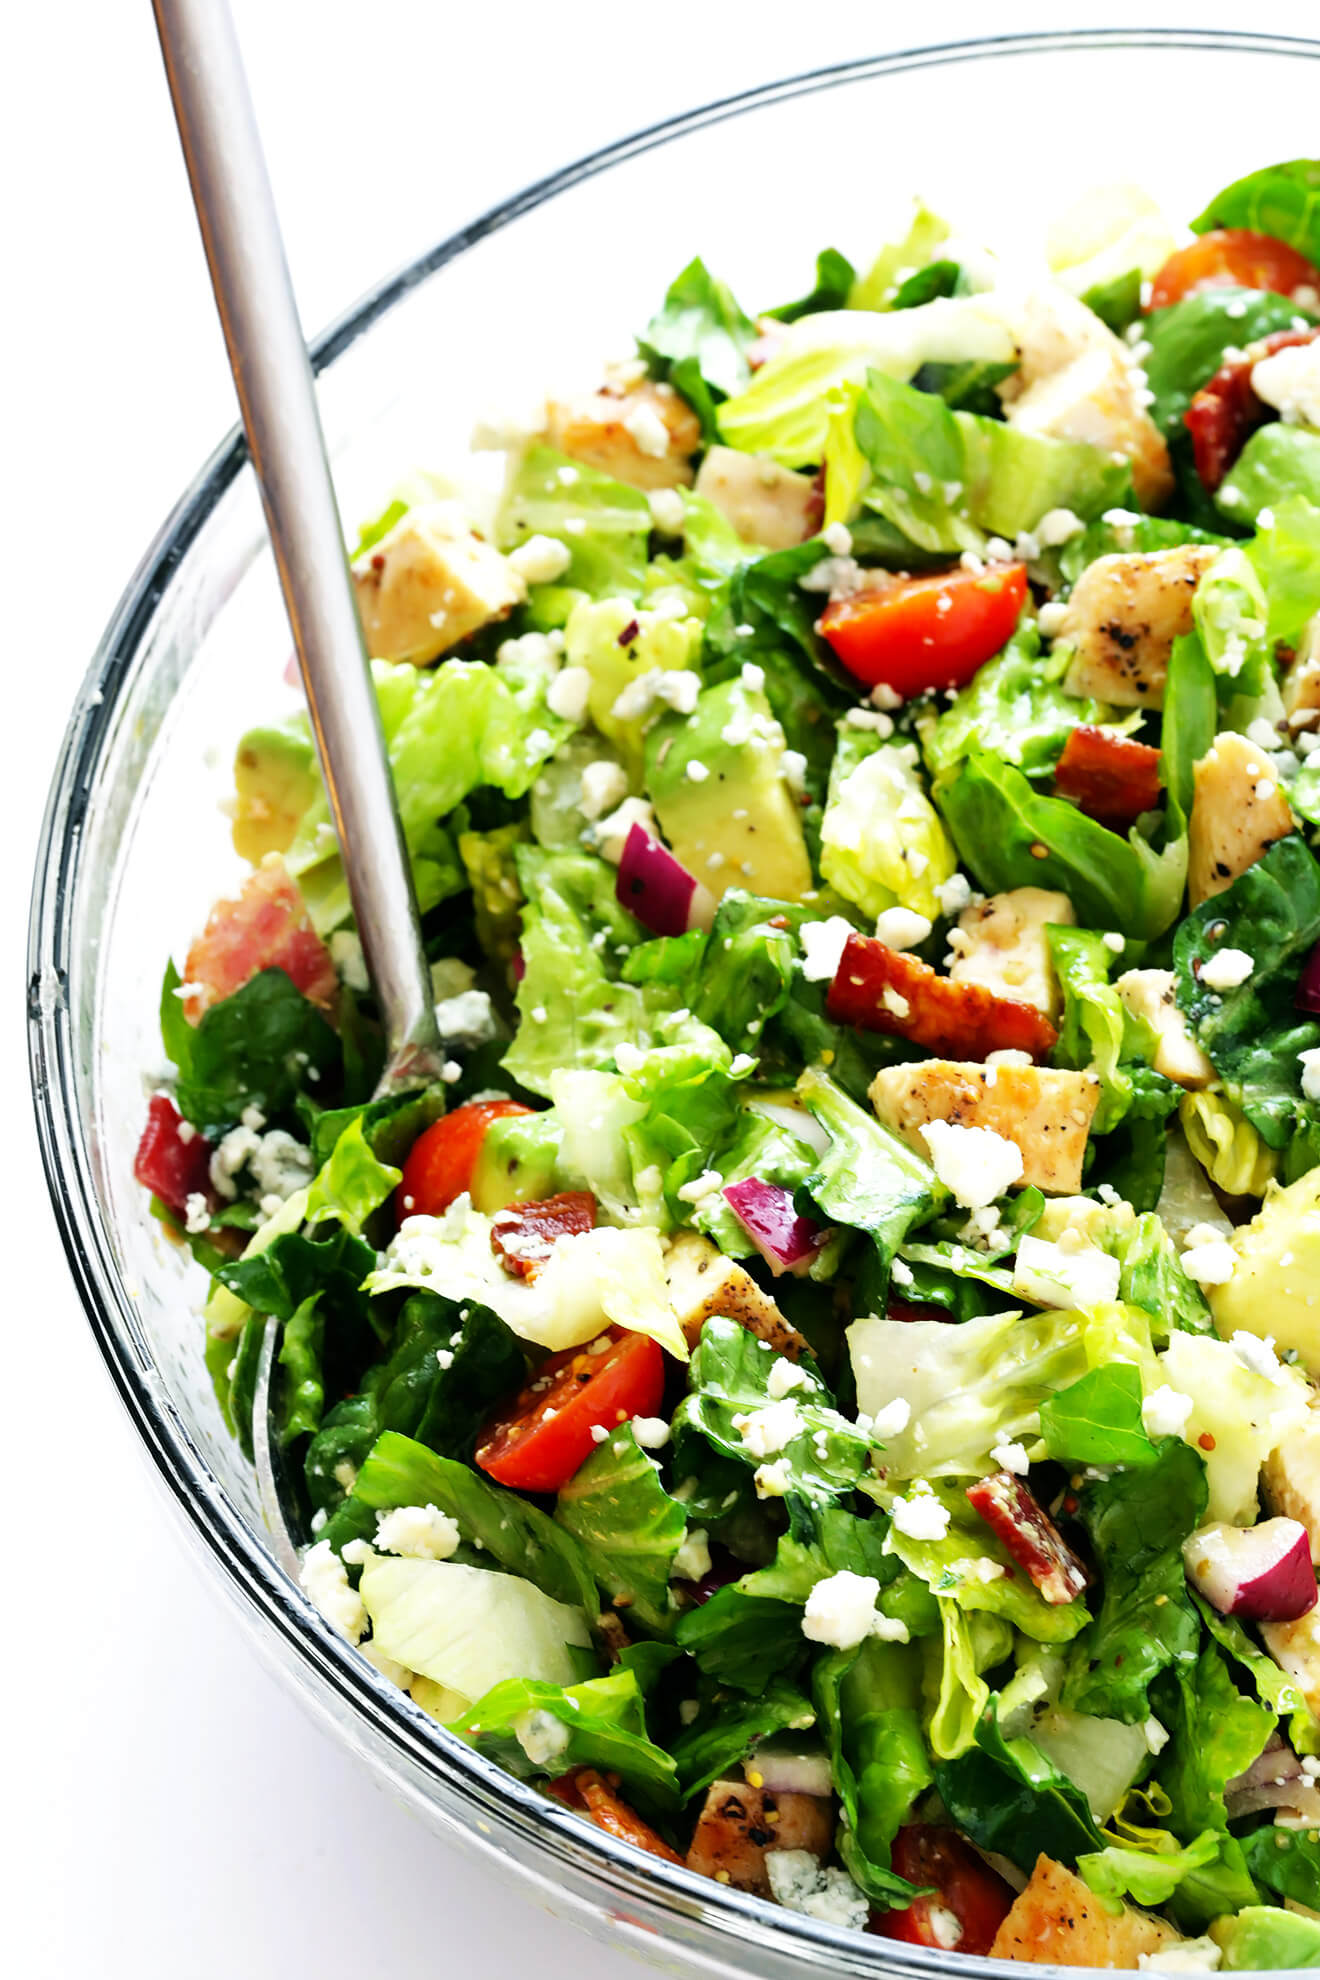chopped lettuce: (454, 330, 1307, 1788)
